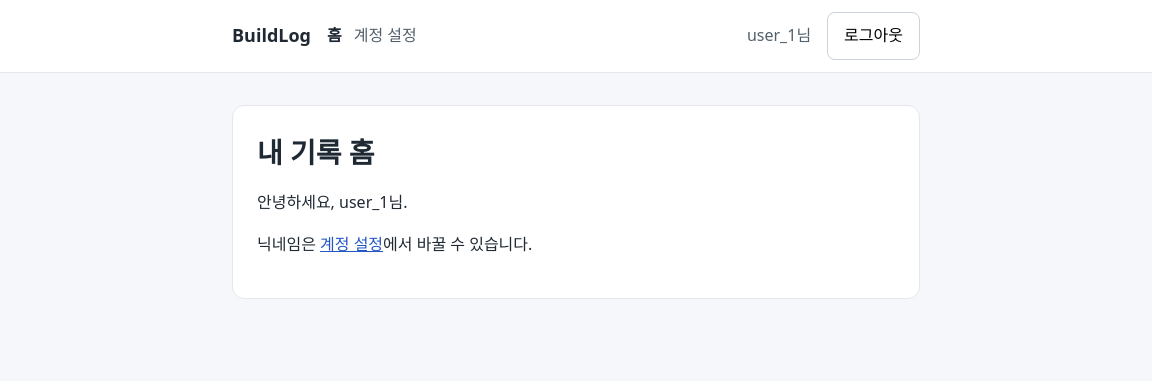
Scenario: 로그아웃 › 실패하면 이유를 알려주고 로그인 상태를 유지한다
Expected: the heading "내 기록 홈" is shown, [257,133,375,171]
Click the button "로그아웃". click: (874, 36)
box: [827,12,920,60]
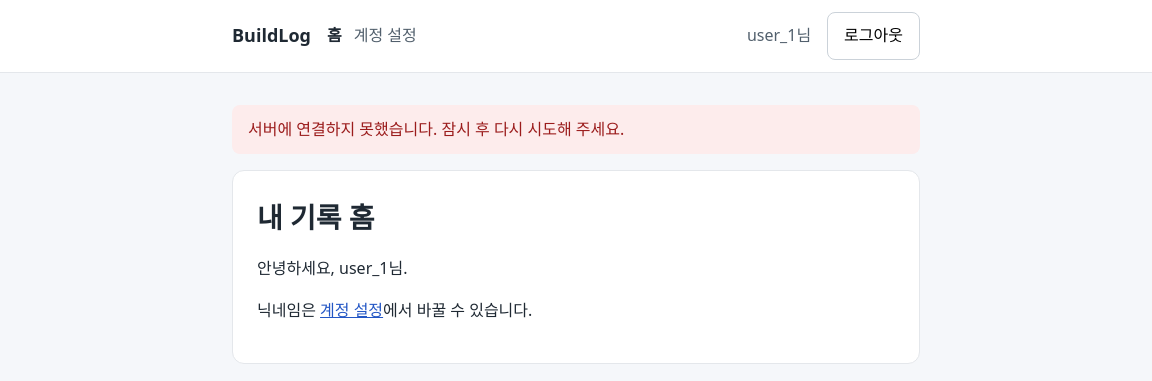
Expected: the heading "내 기록 홈" is shown, [257,198,375,236]
Result: the message shows "서버에 연결하지 못했습니다" at [248,118,624,140]
